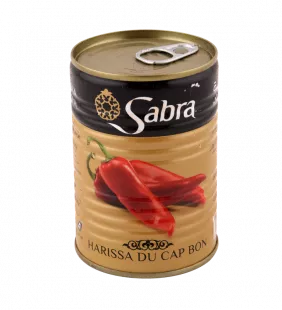SABRA: (60, 20, 228, 284)
